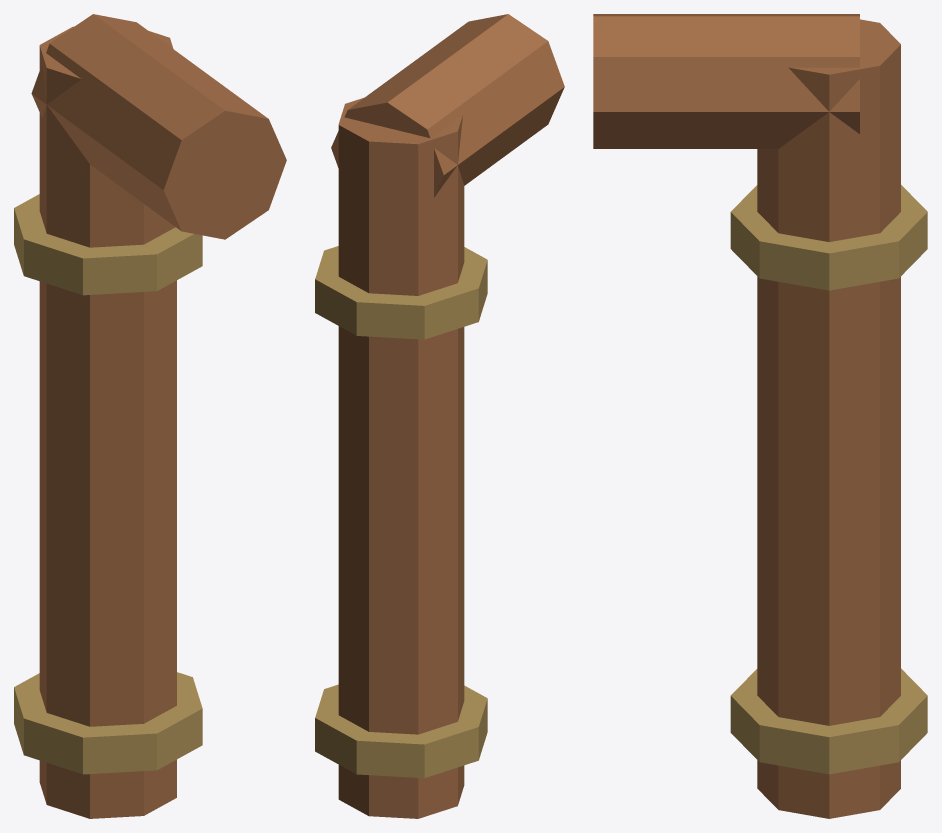
Rendered from works_pipe.glb.
The picture shows the model from 3 angles, left to right: view 1: azimuth 30°, elevation 25°; view 2: azimuth 150°, elevation 25°; view 3: azimuth 270°, elevation 25°; orthographic projection. The views are drawn at different scales.
Parts seen in each view (by area): view 1: pipe, elbow, flange, flange2; view 2: pipe, elbow, flange2, flange; view 3: pipe, elbow, flange, flange2.
Boxes of the visible parts, x1,y1,x2,y2 form: pipe: [39, 26, 176, 818]; elbow: [31, 14, 286, 239]; flange: [14, 672, 202, 774]; flange2: [14, 194, 202, 295]; pipe: [338, 98, 464, 818]; elbow: [331, 14, 564, 197]; flange2: [315, 246, 487, 339]; flange: [315, 684, 487, 778]; pipe: [757, 19, 900, 818]; elbow: [593, 14, 859, 148]; flange: [730, 668, 927, 774]; flange2: [730, 185, 927, 290].
Size of the model in its own units: 0.96 by 4.15 by 1.63.
